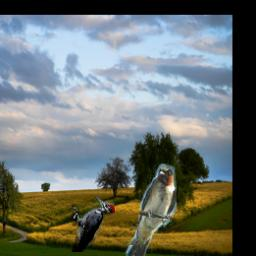Swallow: (126, 164, 178, 256)
Woodpecker: (72, 197, 115, 253)
